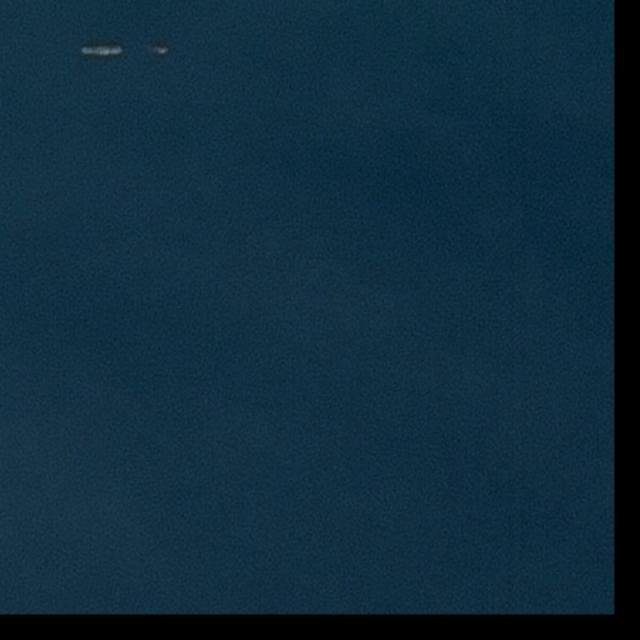ship: (82, 45, 125, 56), (156, 47, 170, 55)
